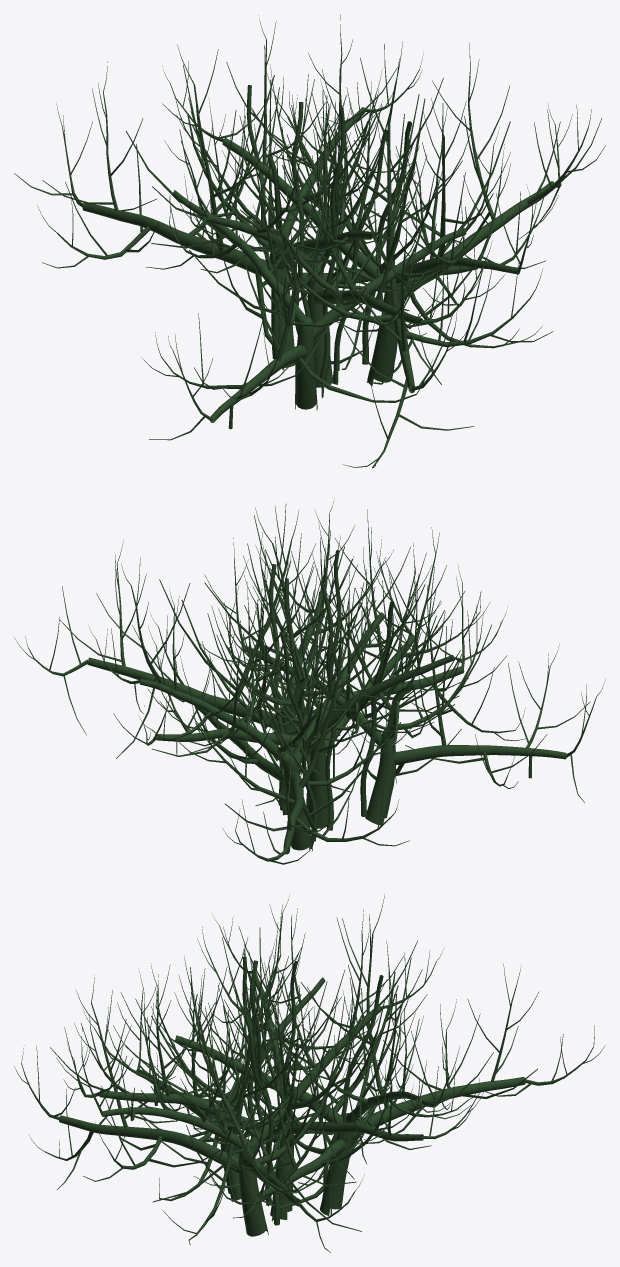
The model's file is GreenBush_02.fbx.
The picture shows the model from 3 angles, top to bottom: view 1: azimuth 30°, elevation 25°; view 2: azimuth 150°, elevation 25°; view 3: azimuth 270°, elevation 25°; orthographic projection. The views are drawn at different scales.
Parts seen in each view (by area): view 1: Foliage002; view 2: Foliage002; view 3: Foliage002.
Part boxes in pixels (x1,y1,x2,y2): Foliage002: (14, 14, 605, 468); Foliage002: (14, 498, 605, 864); Foliage002: (14, 894, 605, 1252).
Size of the model in its own units: 152 by 93.98 by 166.
